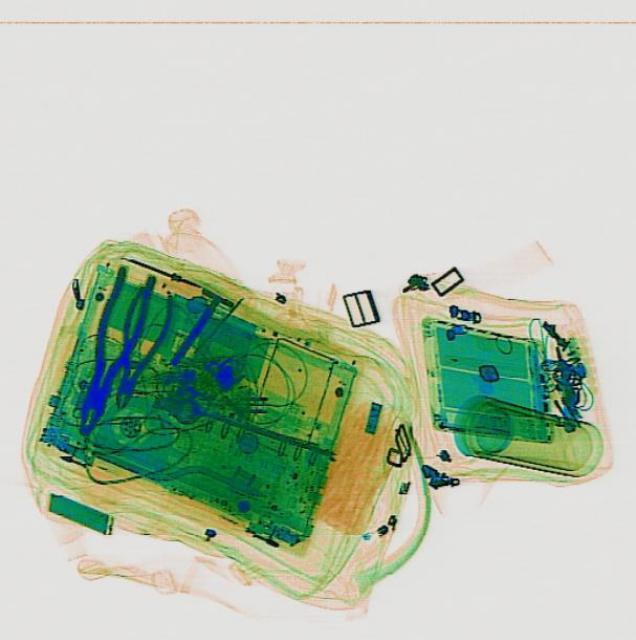Pliers: (60, 261, 161, 439), (98, 283, 177, 413)
